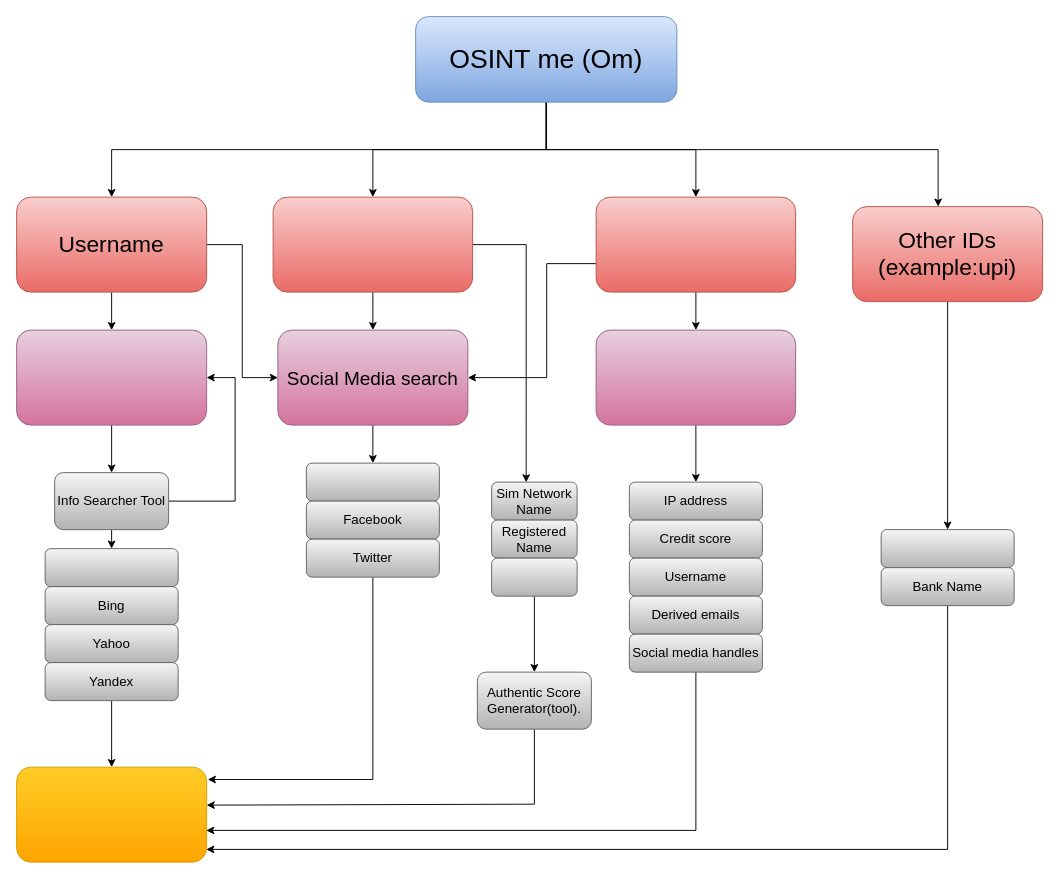
The diagram is 1059 pixels wide and 879 high, and some of its shapes have lost their labels. The shapes that lost their labels are listed below. From the top down, each one's centre as x and y in pixels, then its label:
(372,244): Phone number
(695,244): Email
(111,377): Search engine
(695,377): Email Lookup
(372,481): Instagram
(111,567): google
(947,548): Name
(534,576): Address
(111,814): Database (Centralized)
